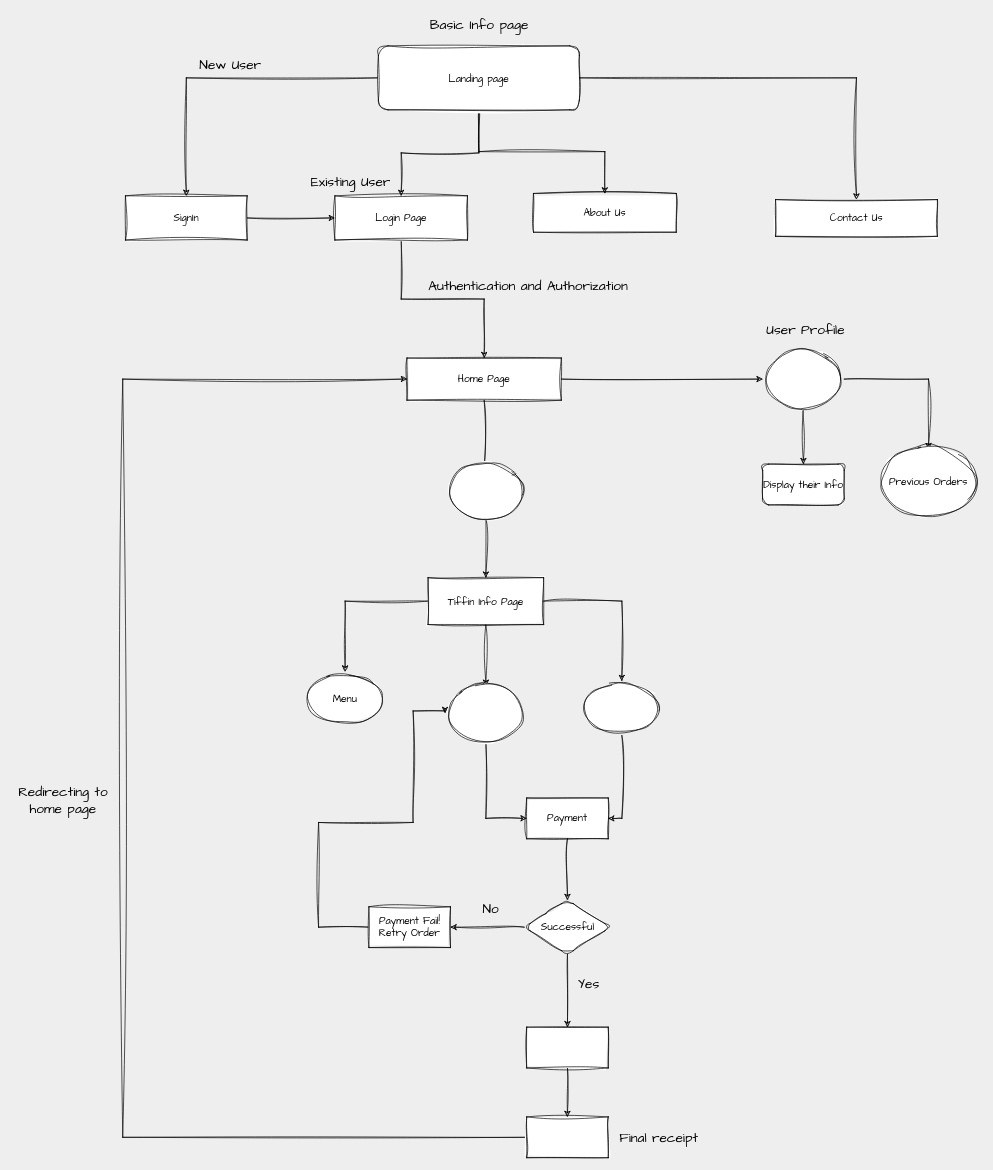
Image size: 993x1170. Some labels were removed from this diagram. Here are the shapes that lost their labels. From the top down, the centre of each, then its label:
At (803,378): "Profile".
At (485,490): "Various Tiffin Services".
At (485,712): "Order Now".
At (621,707): "Schedule Now".
At (567,1047): "Order Successful!!".
At (567,1137): "Receipt".
